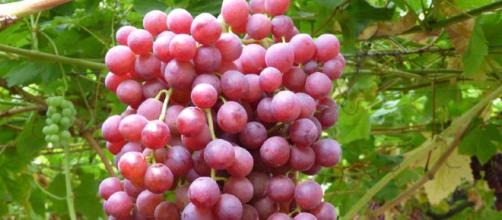Red Grapes: (100, 6, 331, 220)
